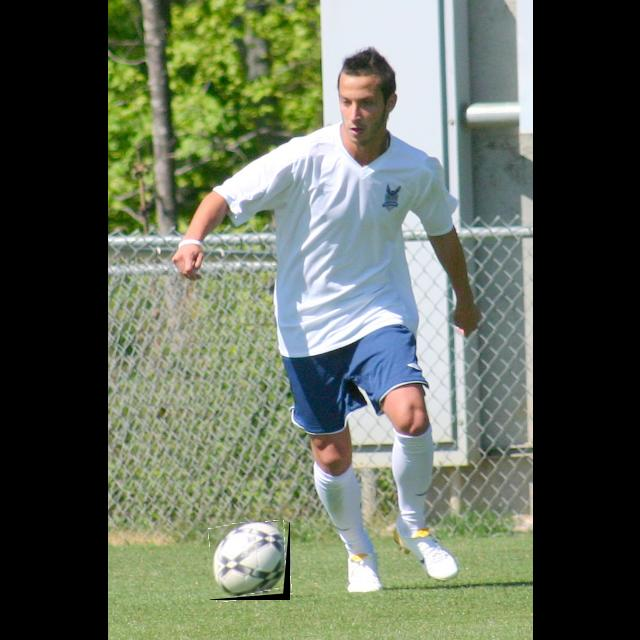Football: (210, 522, 290, 600)
